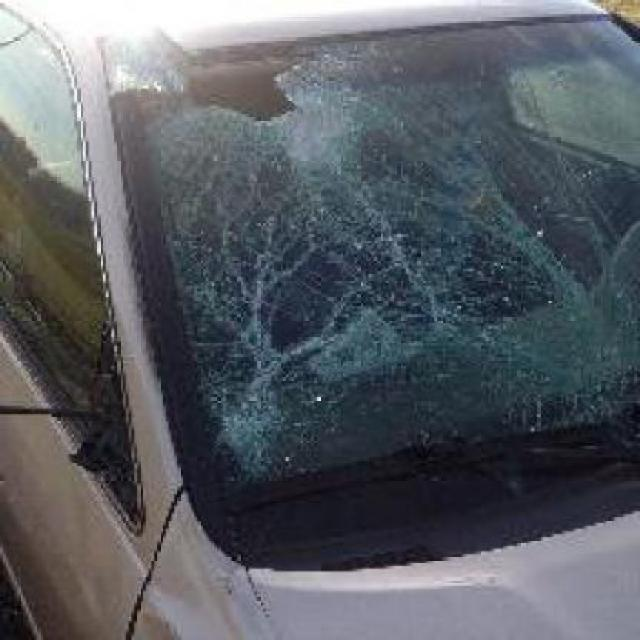damaged-windscreen: (114, 11, 637, 508)
